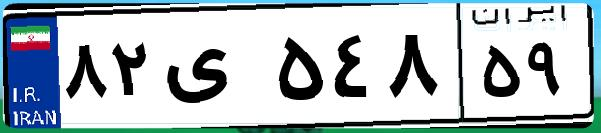2: (110, 28, 158, 98)
4: (330, 28, 385, 110)
5: (270, 28, 330, 110), (475, 38, 525, 113)
8: (385, 28, 445, 110), (57, 26, 110, 100)
9: (525, 38, 570, 115)
ی: (158, 20, 270, 120)
